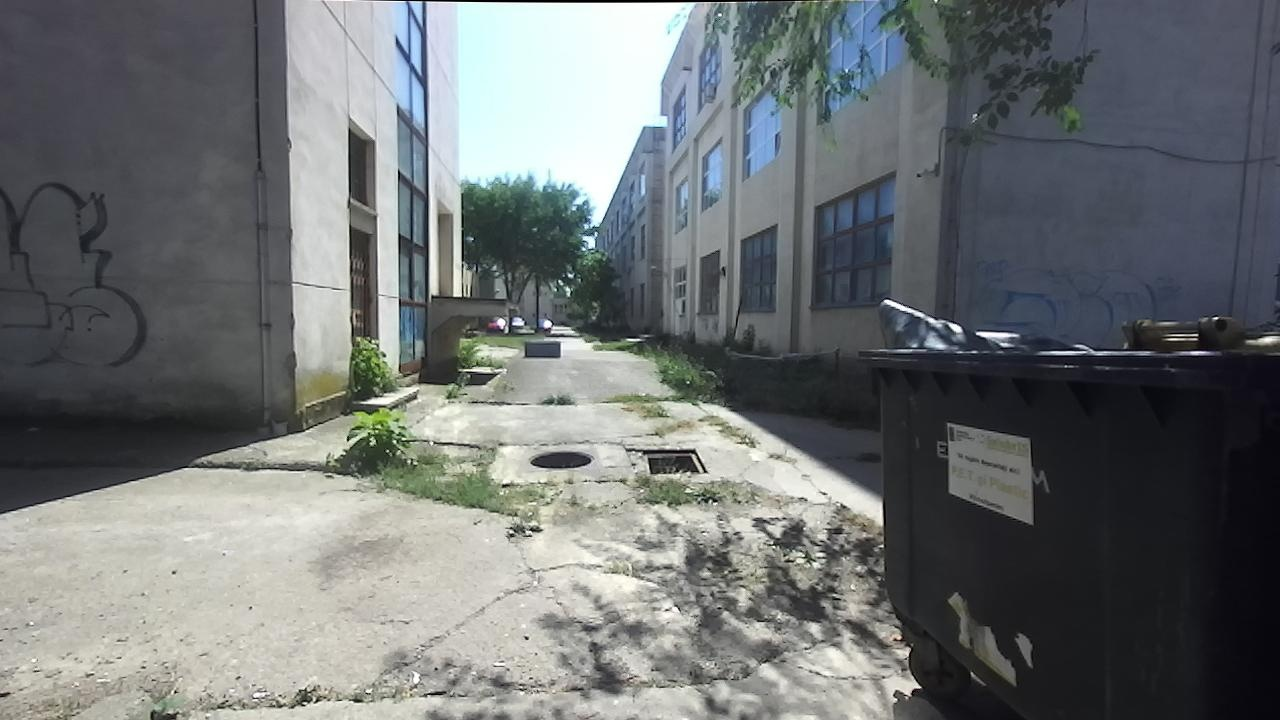drain: (641, 446, 712, 478), (526, 443, 600, 470)
